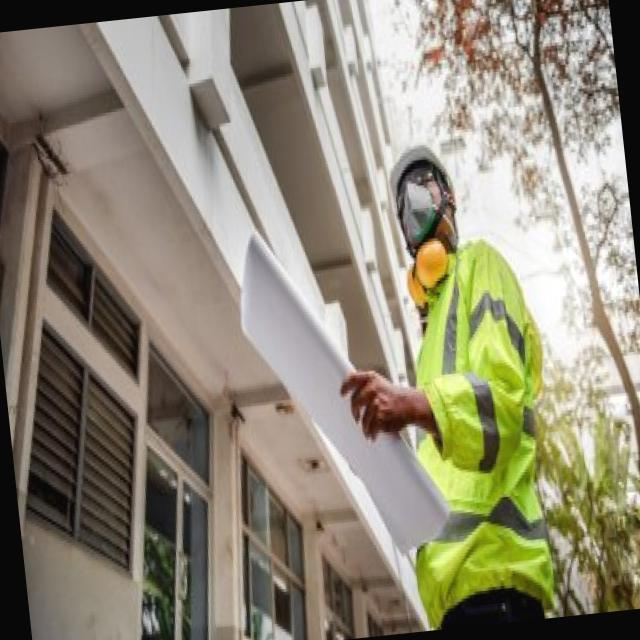goggles: (386, 162, 444, 220)
helmet: (383, 136, 458, 213)
vest: (378, 232, 570, 632)
